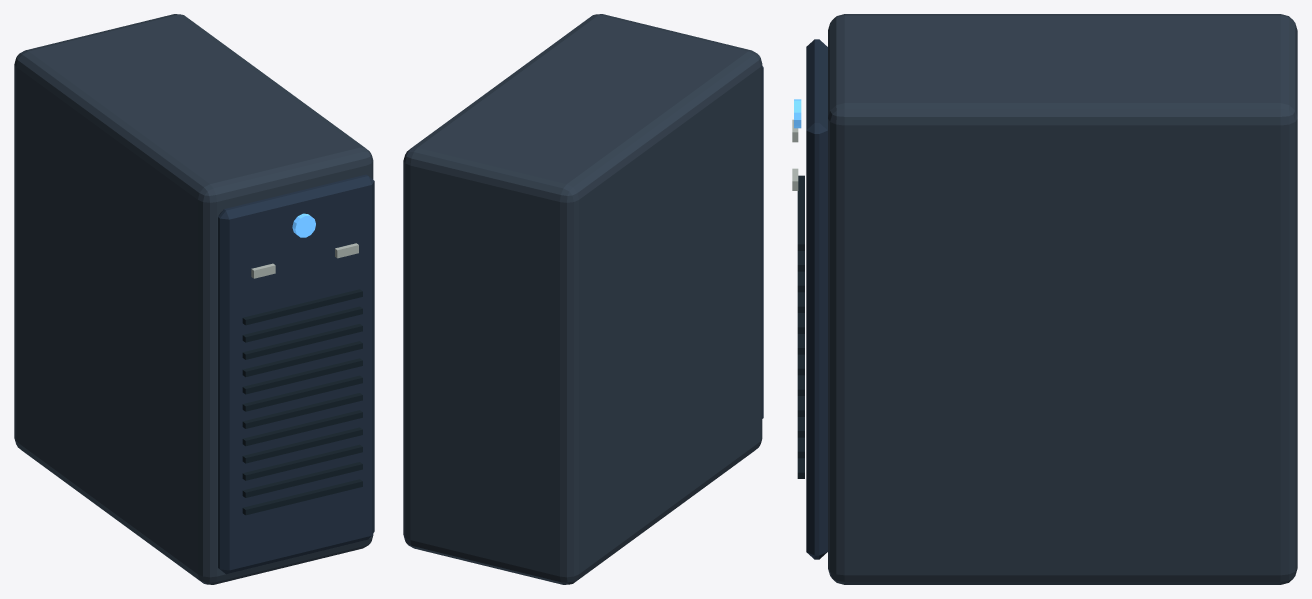
File: computer_tower.glb
3 views of the same model, side by side, from view 1: azimuth 30°, elevation 25°; view 2: azimuth 150°, elevation 25°; view 3: azimuth 270°, elevation 25° (orthographic). The views are drawn at different scales.
Visible parts, largest first — view 1: computer_tower__metal, computer_tower__navy_dark, computer_tower__black, computer_tower__steel; view 2: computer_tower__metal, computer_tower__navy_dark; view 3: computer_tower__metal, computer_tower__navy_dark, computer_tower__black.
Part boxes in pixels (x1=…): computer_tower__metal: x1=14, y1=14, x2=373, y2=584; computer_tower__navy_dark: x1=218, y1=174, x2=374, y2=574; computer_tower__black: x1=242, y1=289, x2=362, y2=515; computer_tower__steel: x1=251, y1=243, x2=358, y2=278; computer_tower__metal: x1=403, y1=14, x2=762, y2=584; computer_tower__navy_dark: x1=762, y1=66, x2=763, y2=418; computer_tower__metal: x1=828, y1=14, x2=1297, y2=584; computer_tower__navy_dark: x1=806, y1=39, x2=827, y2=559; computer_tower__black: x1=797, y1=175, x2=804, y2=478.
Size of the model in its own units: 0.2 by 0.44 by 0.4195.
